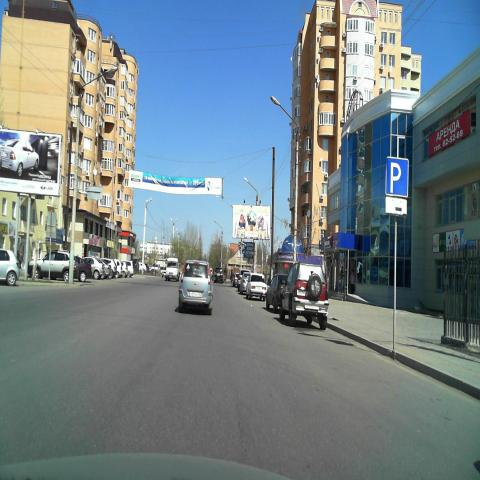6_4: (386, 156, 408, 198)
8_6_2: (385, 198, 407, 214)
